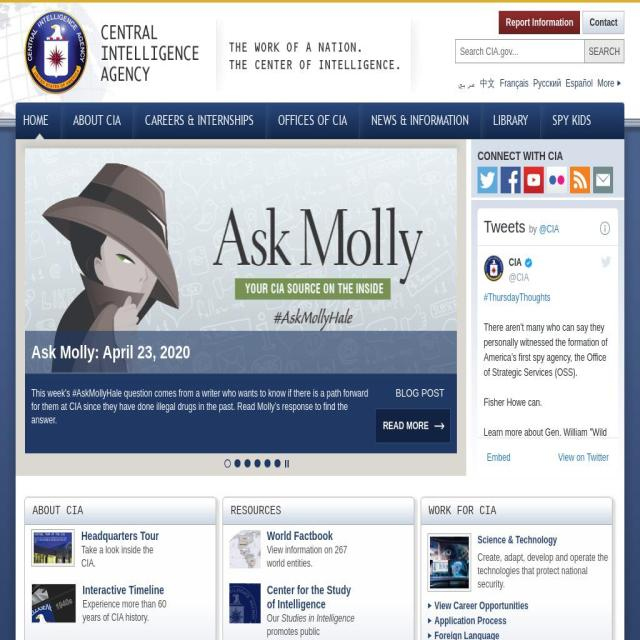button: (24, 10, 199, 95), (132, 103, 266, 139), (358, 103, 481, 139), (266, 103, 358, 139), (374, 408, 452, 443), (61, 103, 132, 139), (540, 103, 603, 139), (481, 103, 540, 139), (498, 11, 580, 34), (15, 103, 60, 139), (385, 386, 451, 408), (428, 598, 528, 612), (427, 614, 507, 628), (583, 11, 625, 34), (428, 628, 500, 640), (478, 167, 498, 193), (500, 167, 520, 193), (524, 167, 544, 193), (547, 167, 567, 193), (570, 167, 590, 193), (593, 167, 613, 193), (597, 78, 621, 89), (224, 458, 232, 468), (234, 458, 242, 468), (244, 458, 252, 468), (254, 458, 262, 468), (264, 458, 272, 468), (274, 458, 282, 468), (284, 458, 292, 468)
field: (455, 39, 584, 63), (584, 39, 624, 63)
heading: (16, 103, 624, 139), (216, 18, 423, 92), (24, 10, 199, 95), (31, 342, 451, 361), (32, 502, 216, 518), (231, 502, 414, 518), (429, 502, 612, 518), (267, 582, 351, 611), (478, 149, 618, 163), (82, 582, 164, 596), (81, 528, 159, 542), (477, 533, 557, 546), (267, 528, 333, 542)
iframe: (478, 208, 618, 477)
image: (25, 148, 457, 372), (16, 2, 624, 120), (428, 532, 470, 590), (32, 582, 76, 624), (31, 528, 75, 567), (230, 583, 260, 624), (230, 528, 260, 568), (34, 133, 45, 140)
link: (499, 78, 529, 89), (533, 78, 562, 89), (565, 78, 593, 89), (31, 637, 110, 640), (458, 78, 476, 89), (480, 78, 496, 89)
text: (31, 386, 451, 426), (428, 550, 610, 591), (267, 542, 361, 570), (81, 542, 166, 570), (82, 597, 167, 624), (145, 113, 254, 129), (371, 113, 469, 129), (278, 113, 347, 129), (281, 612, 355, 624), (267, 625, 322, 640), (73, 113, 121, 129), (254, 458, 308, 471), (552, 113, 592, 129), (493, 113, 528, 129), (23, 113, 49, 129), (230, 458, 254, 471), (597, 78, 614, 89), (267, 612, 281, 624)
